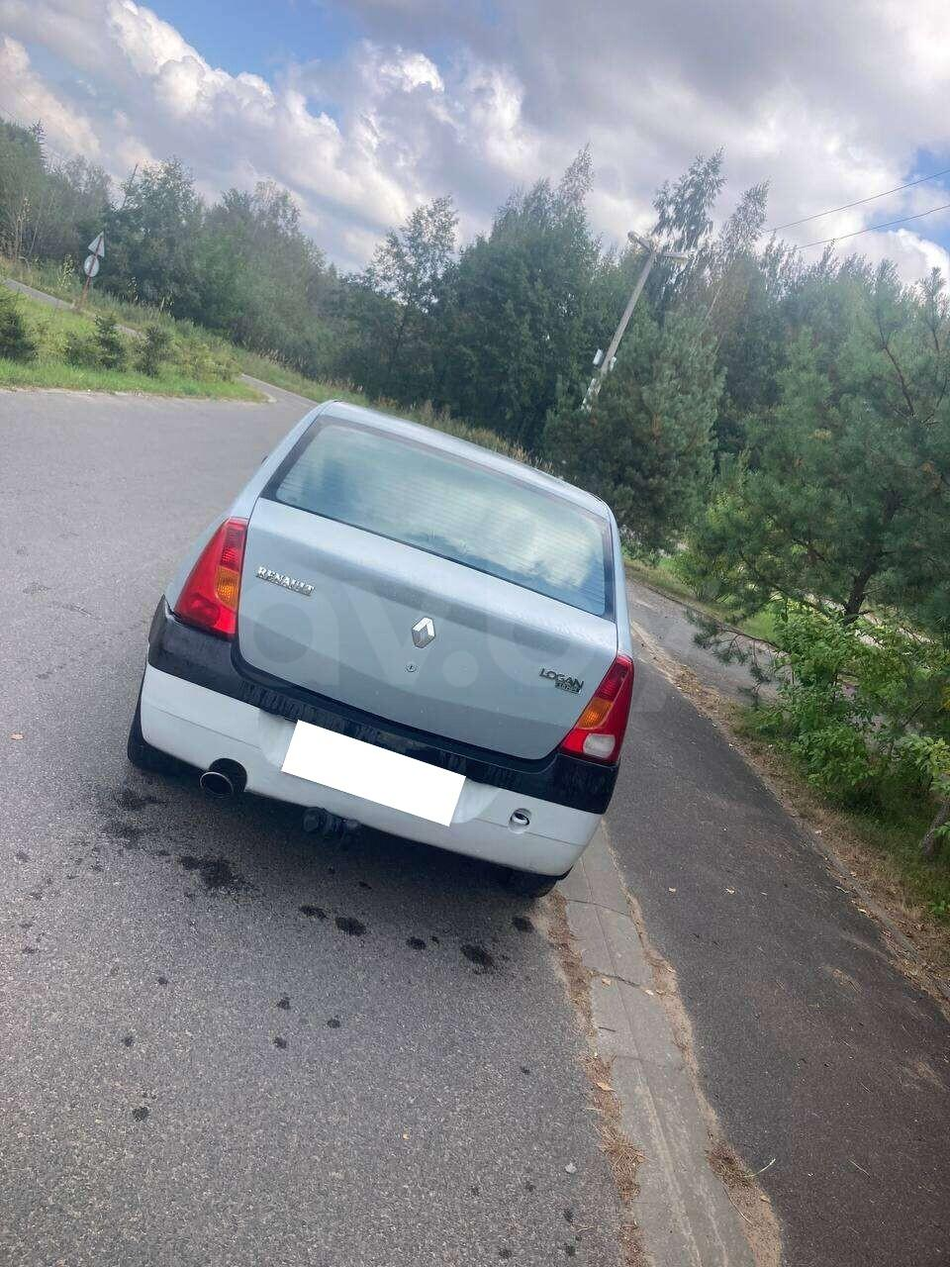Logan_2004-2009: (130, 388, 647, 927)
